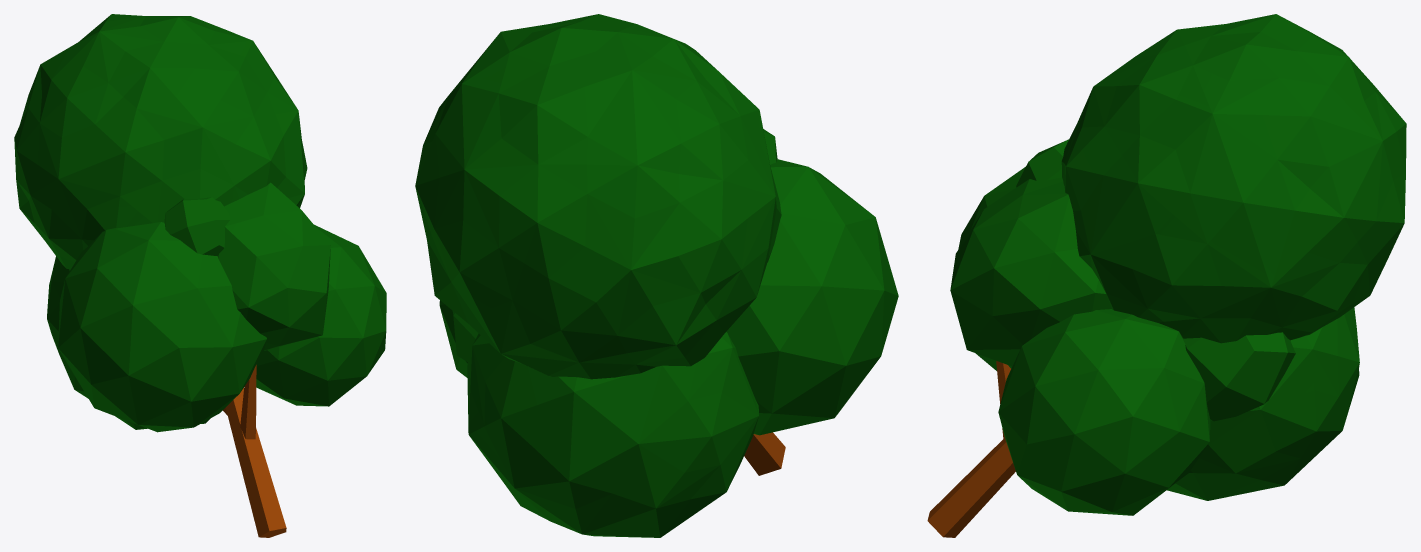
The model's file is asianTreeTall.fbx.
3 renders of one model, left to right at view 1: azimuth 30°, elevation 25°; view 2: azimuth 150°, elevation 25°; view 3: azimuth 270°, elevation 25°, orthographic. The views are drawn at different scales.
Parts seen in each view (by area): view 1: tree-lime_red; view 2: tree-lime_red; view 3: tree-lime_red.
Boxes of the visible parts, x1,y1,x2,y2 form: tree-lime_red: [14, 14, 386, 537]; tree-lime_red: [415, 14, 898, 537]; tree-lime_red: [927, 14, 1406, 537].
Bounding box in the file's own units: 197 × 256 × 217.
